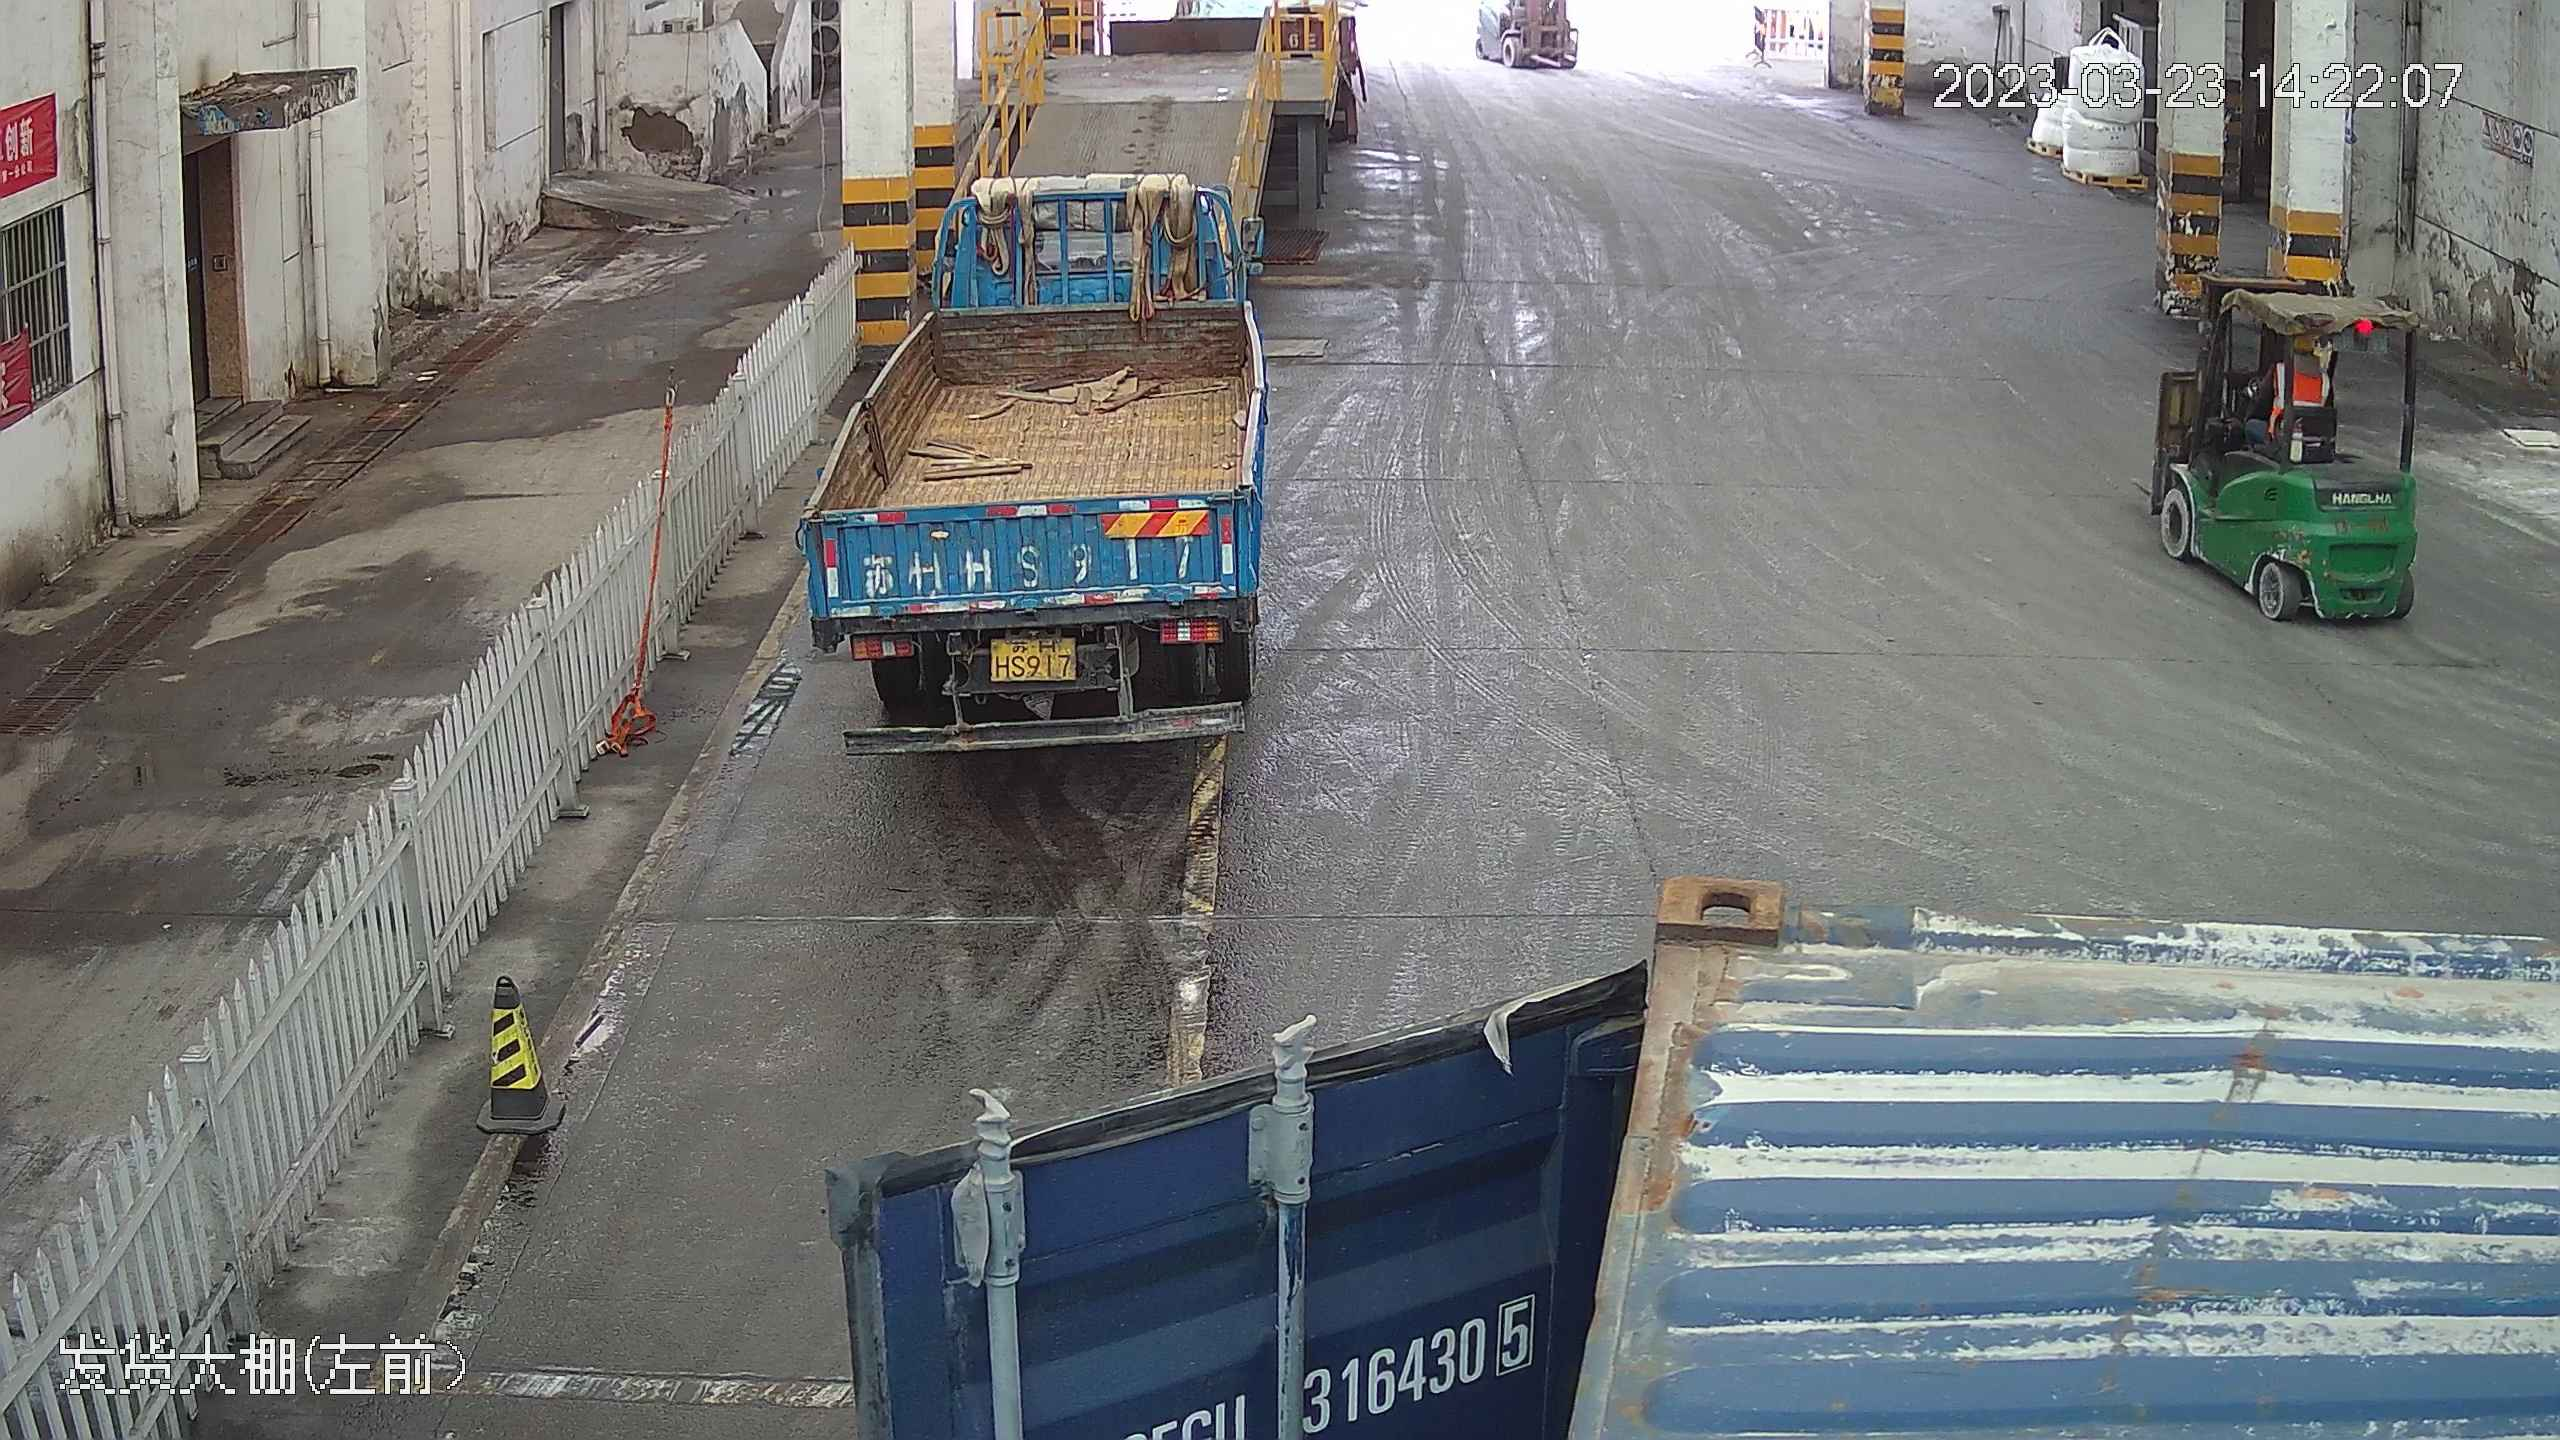truck: (782, 155, 1271, 751)
